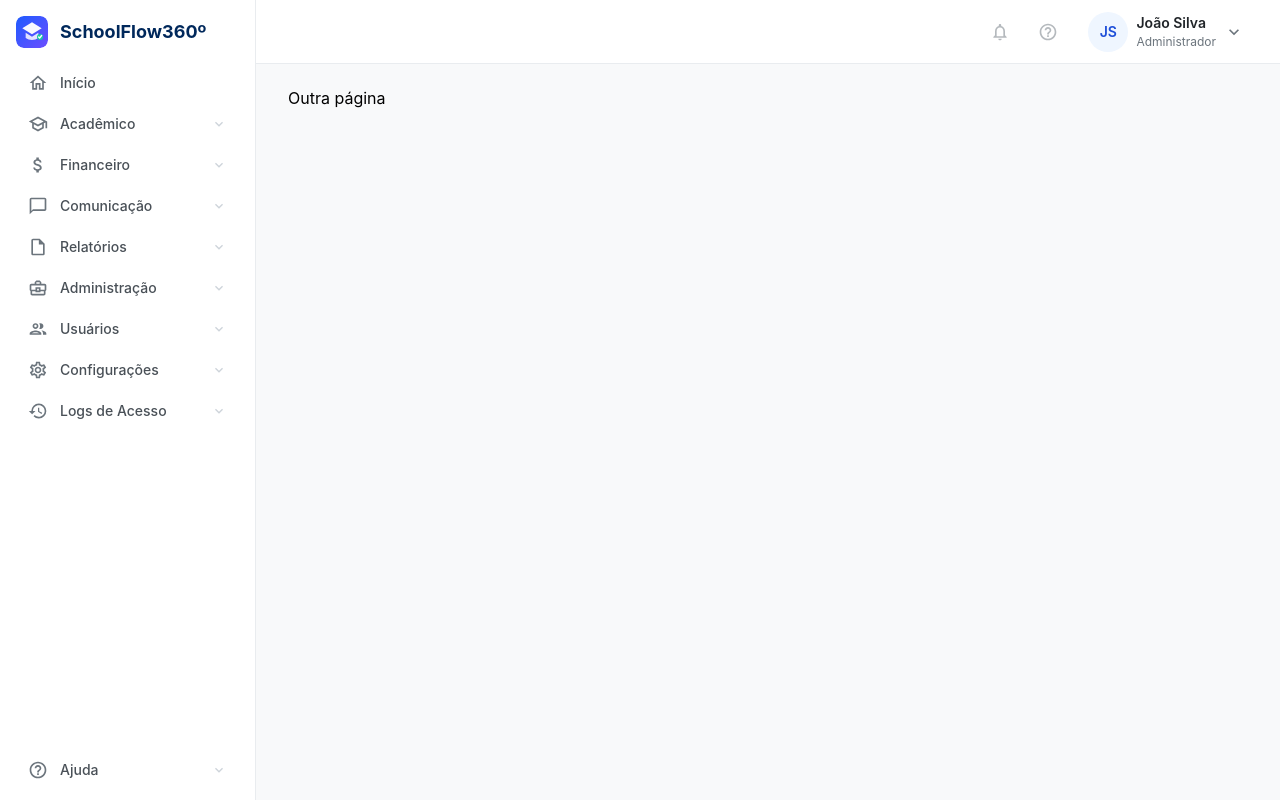
Test: AppShell › navigates to Início, marking it as the current page with its breadcrumb
Click the button "Início" at (128, 82), box [16,64,239,101]
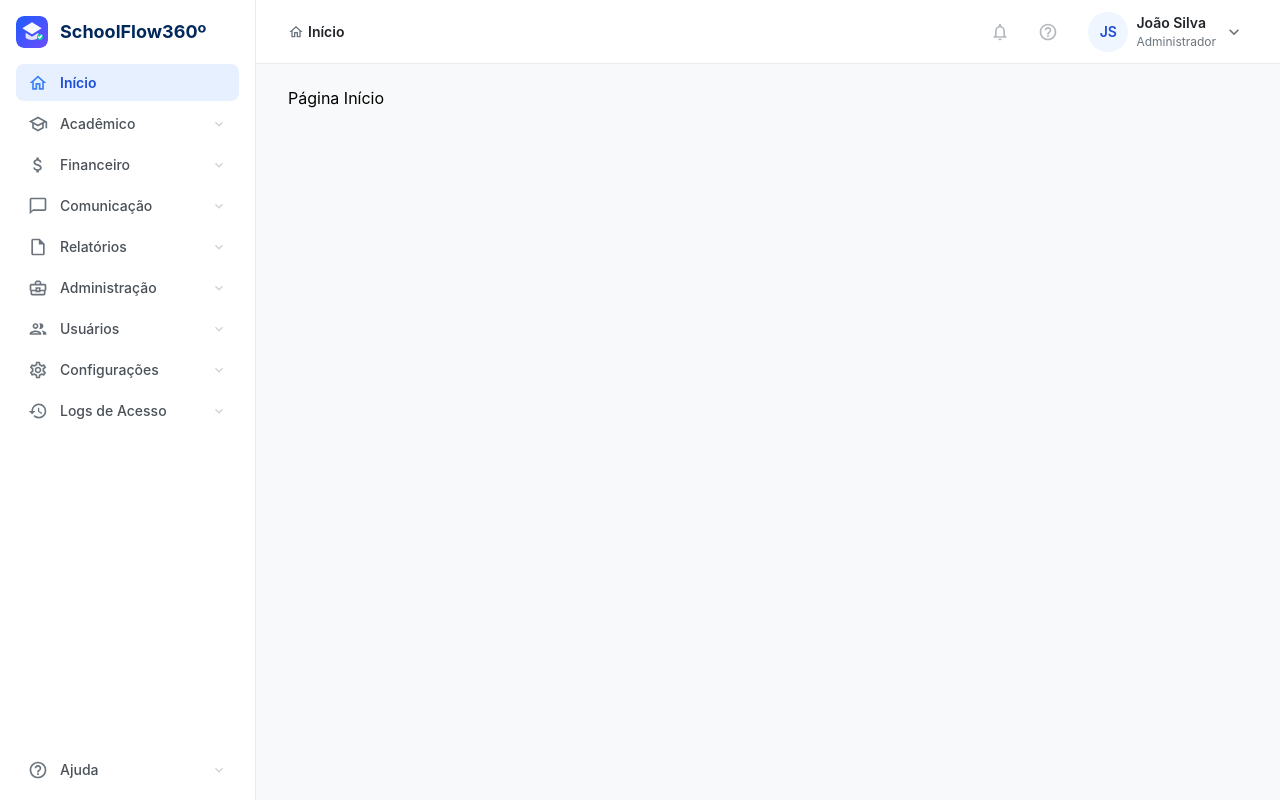
Result: the text "Página Início" is shown at [288,88,384,108]
